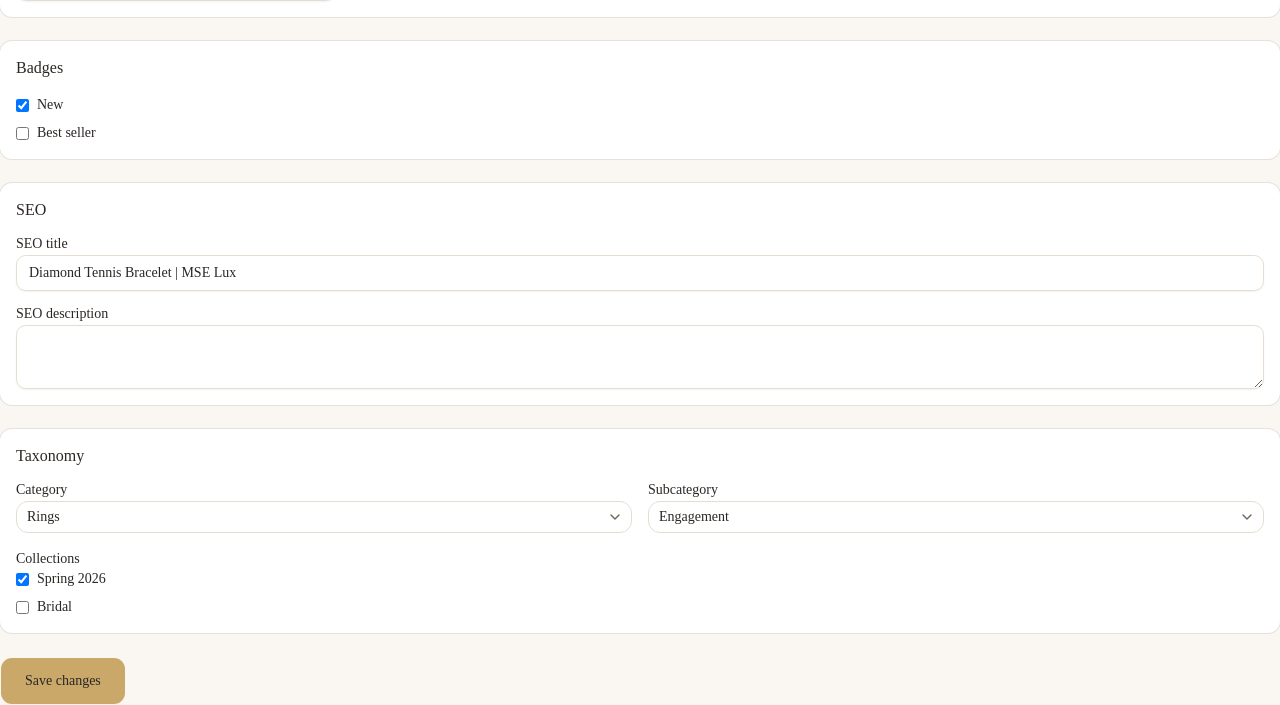
ProductForm › conflict-slug shows a field-level alert on slug
This screenshot has width=1280, height=705.
(page scrolled)
Click the button "Save changes" at (63, 681), box [0,657,126,704]
(page scrolled)
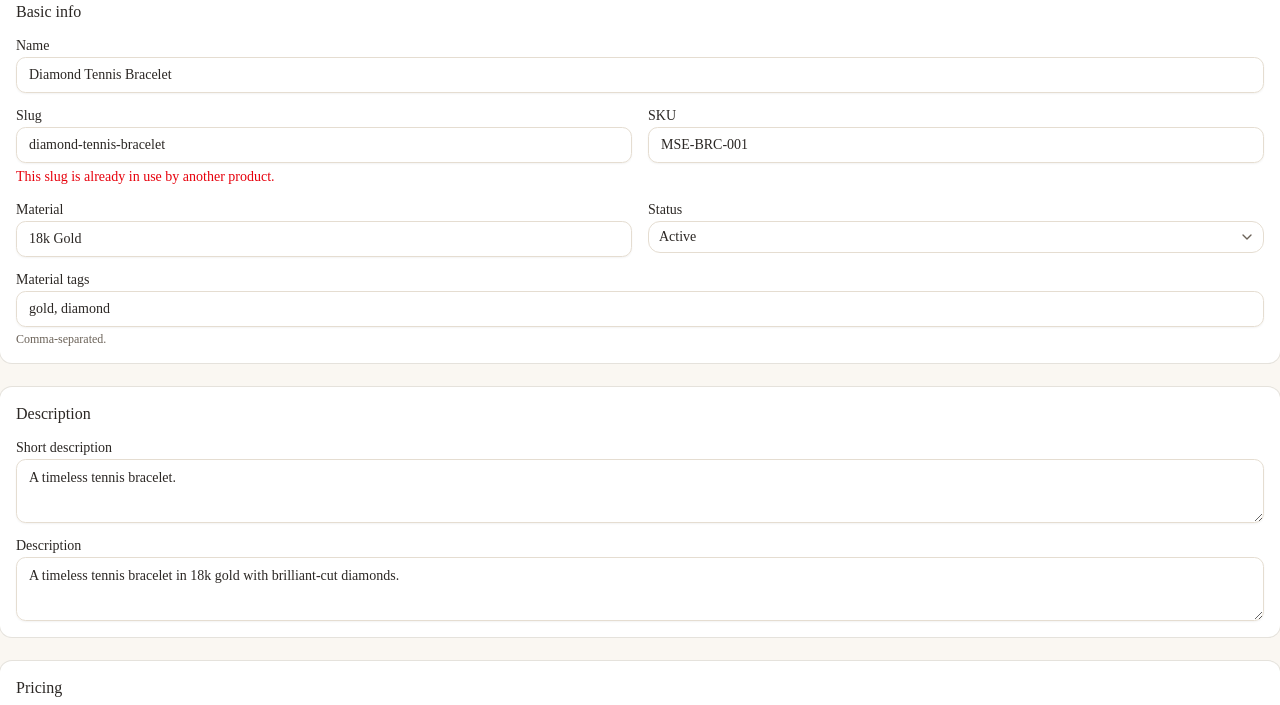
Check: the message shows "slug", box [16,169,275,184]
